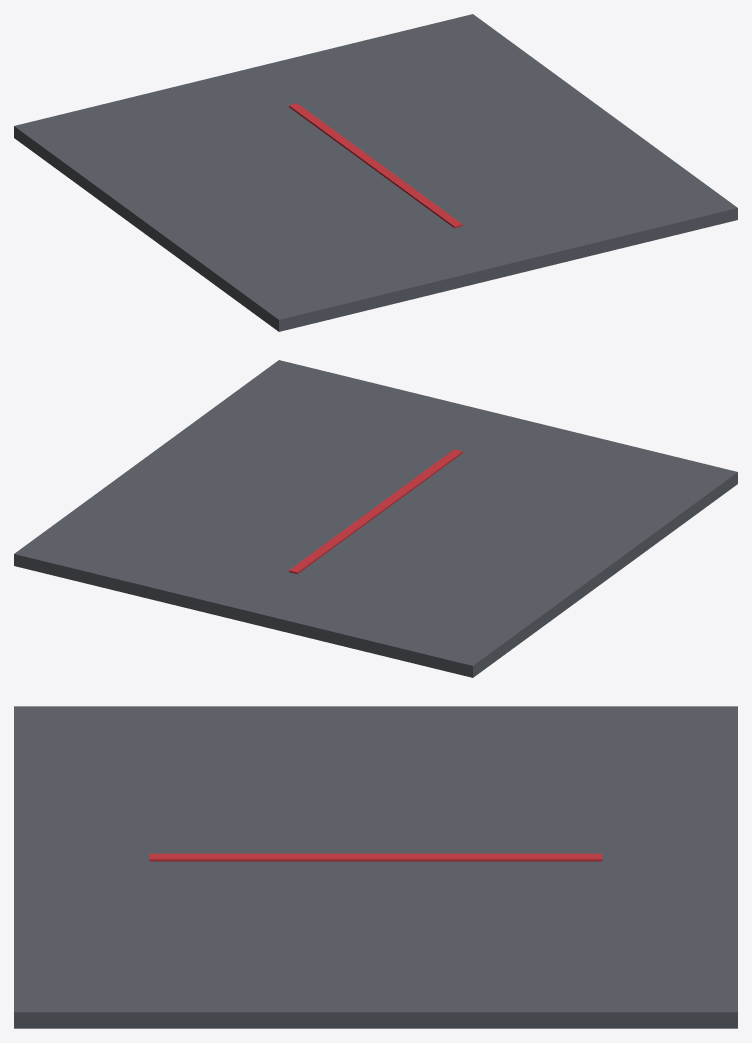
Rendered from citadel_platform.glb.
3 views of the same model, one above another, from view 1: azimuth 30°, elevation 25°; view 2: azimuth 150°, elevation 25°; view 3: azimuth 270°, elevation 25° (orthographic). The views are drawn at different scales.
Visible parts, largest first — view 1: part_0, part_1; view 2: part_0, part_1; view 3: part_0, part_1.
Part boxes in pixels (x1,y1,x2,y2): part_0: [14, 14, 737, 331]; part_1: [289, 103, 462, 228]; part_0: [14, 360, 737, 677]; part_1: [289, 449, 462, 574]; part_0: [14, 706, 737, 1028]; part_1: [149, 853, 602, 861].
Size of the model in its own units: 8 by 0.235 by 8.
